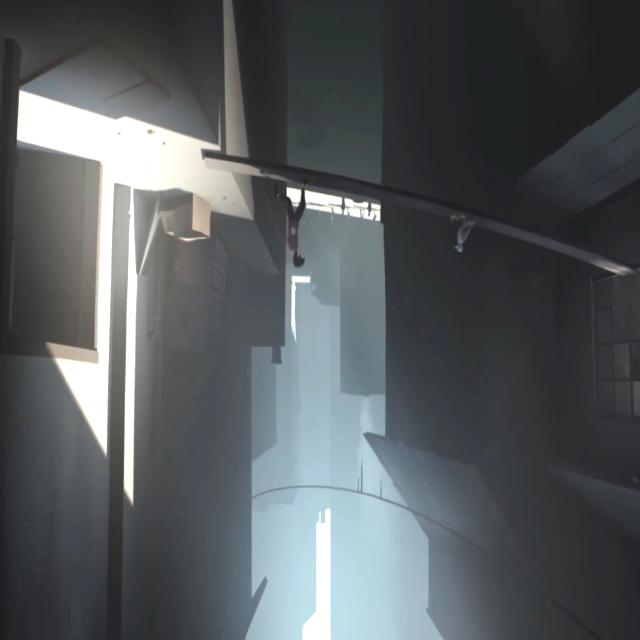boy: (282, 189, 306, 272)
zombie: (341, 197, 346, 215), (360, 209, 364, 230), (367, 202, 372, 216), (373, 209, 376, 230), (331, 207, 334, 226), (347, 208, 350, 225)
